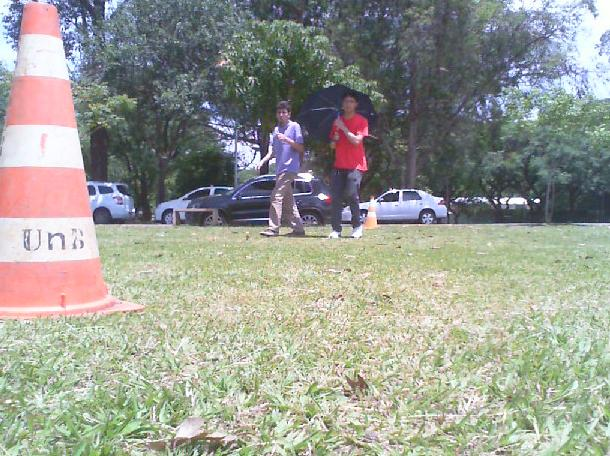0 cone: (0, 3, 146, 316), (364, 196, 382, 229)
